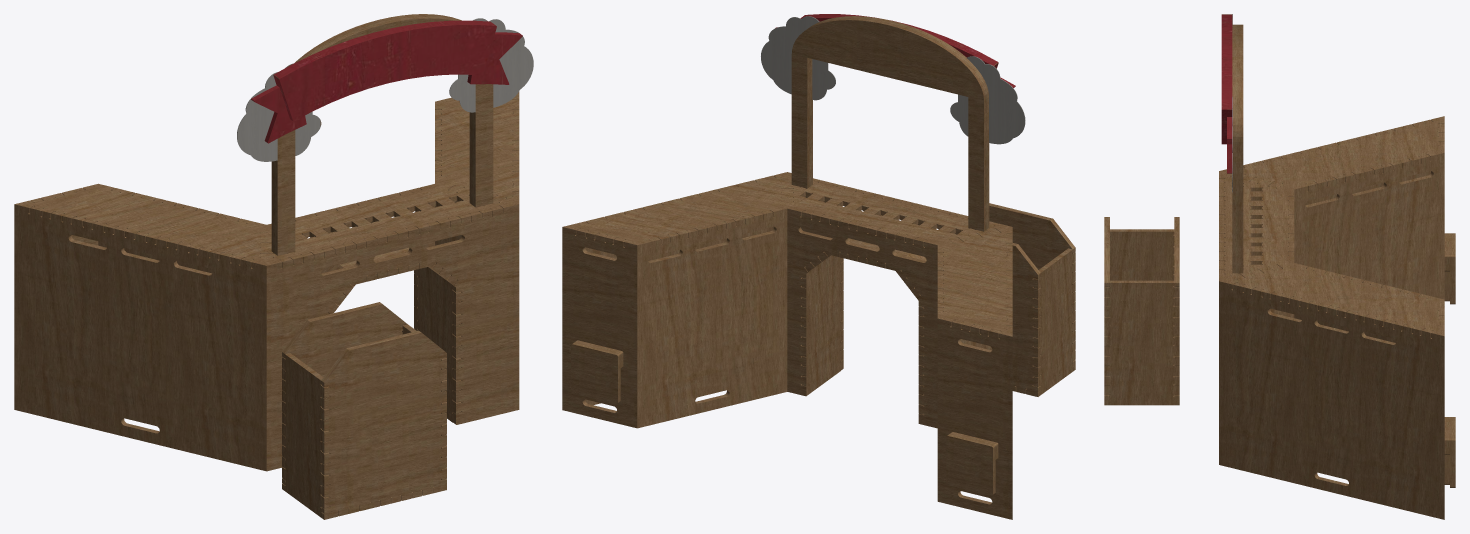
The model's file is theater.glb.
3 views of the same model, side by side, from view 1: azimuth 30°, elevation 25°; view 2: azimuth 150°, elevation 25°; view 3: azimuth 270°, elevation 25° (orthographic). The views are drawn at different scales.
Parts seen in each view (by area): view 1: theaer; view 2: theaer; view 3: theaer.
Part boxes in pixels (x1,y1,x2,y2): theaer: (14, 14, 533, 519); theaer: (562, 14, 1075, 519); theaer: (1104, 14, 1455, 519).
Size of the model in its own units: 1.83 by 1.42 by 1.23.
3 materials, 3 textured.
